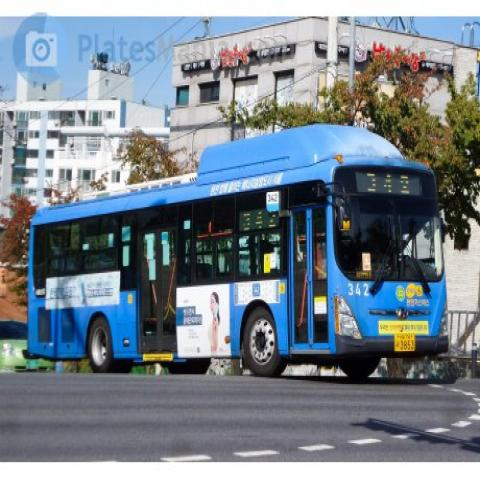LP: (392, 325, 419, 358)
